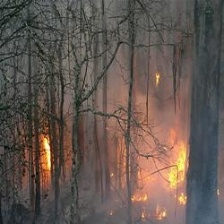fire: (27, 98, 67, 190), (158, 130, 193, 203)
